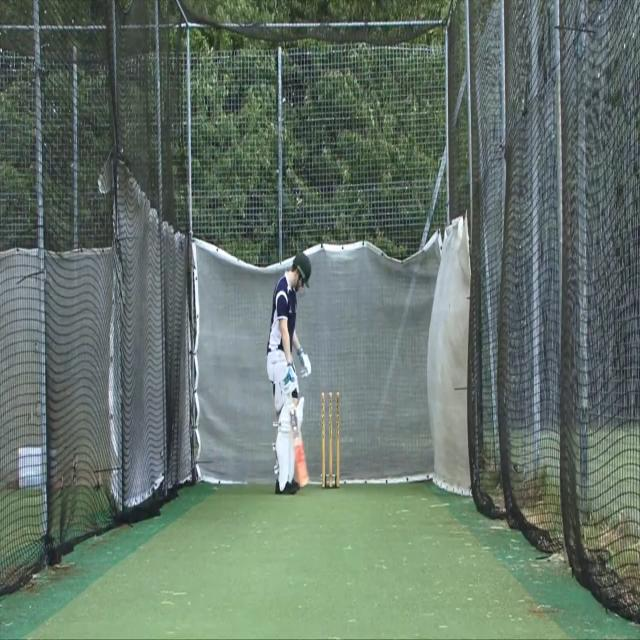batsman: (264, 249, 313, 498)
